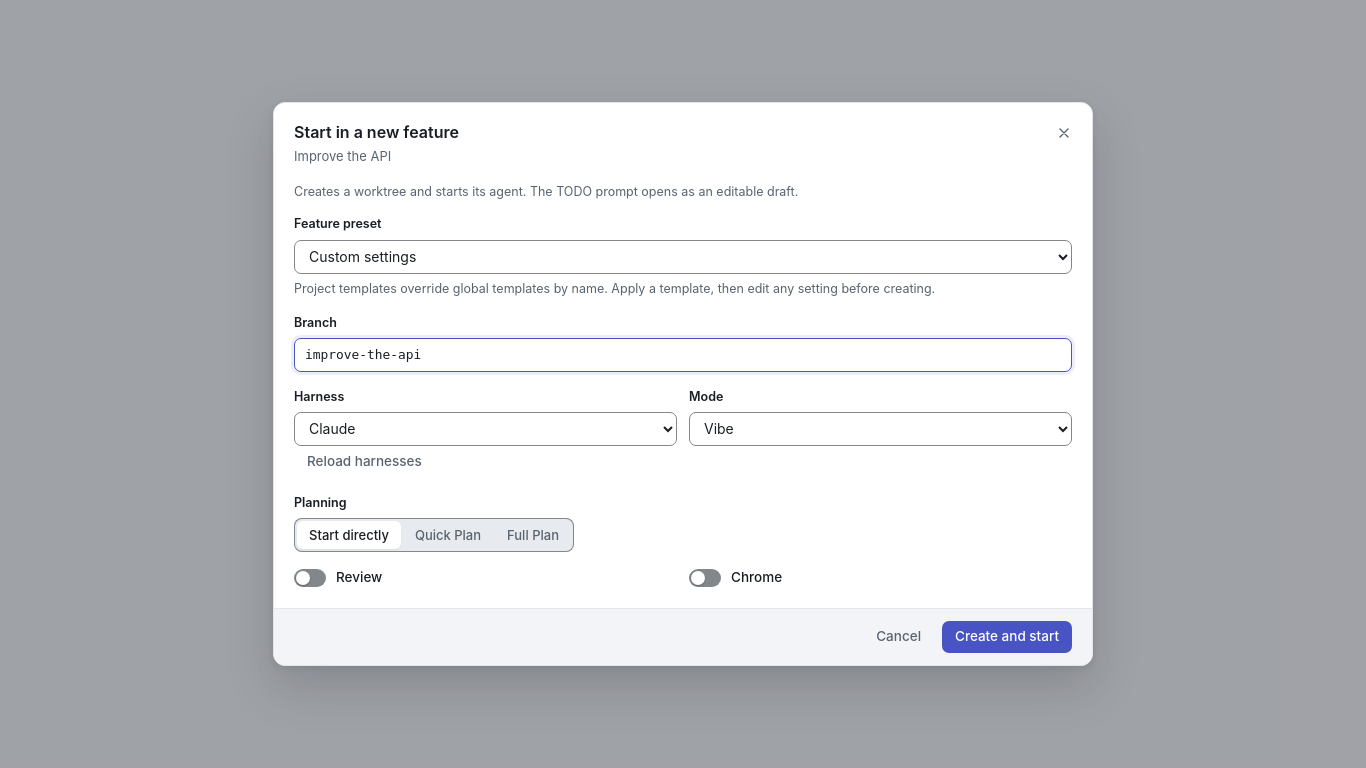
Scenario: swaps only prefixes applied by previous presets and keeps manual branch edits
The width and height of the screenshot is (1366, 768).
Expected: the button "Create and start" is enabled, [942, 621, 1072, 653]
Replace the text in the field labelled "Branch" with "nested/meaningful": (683, 355) [294, 338, 1072, 372]
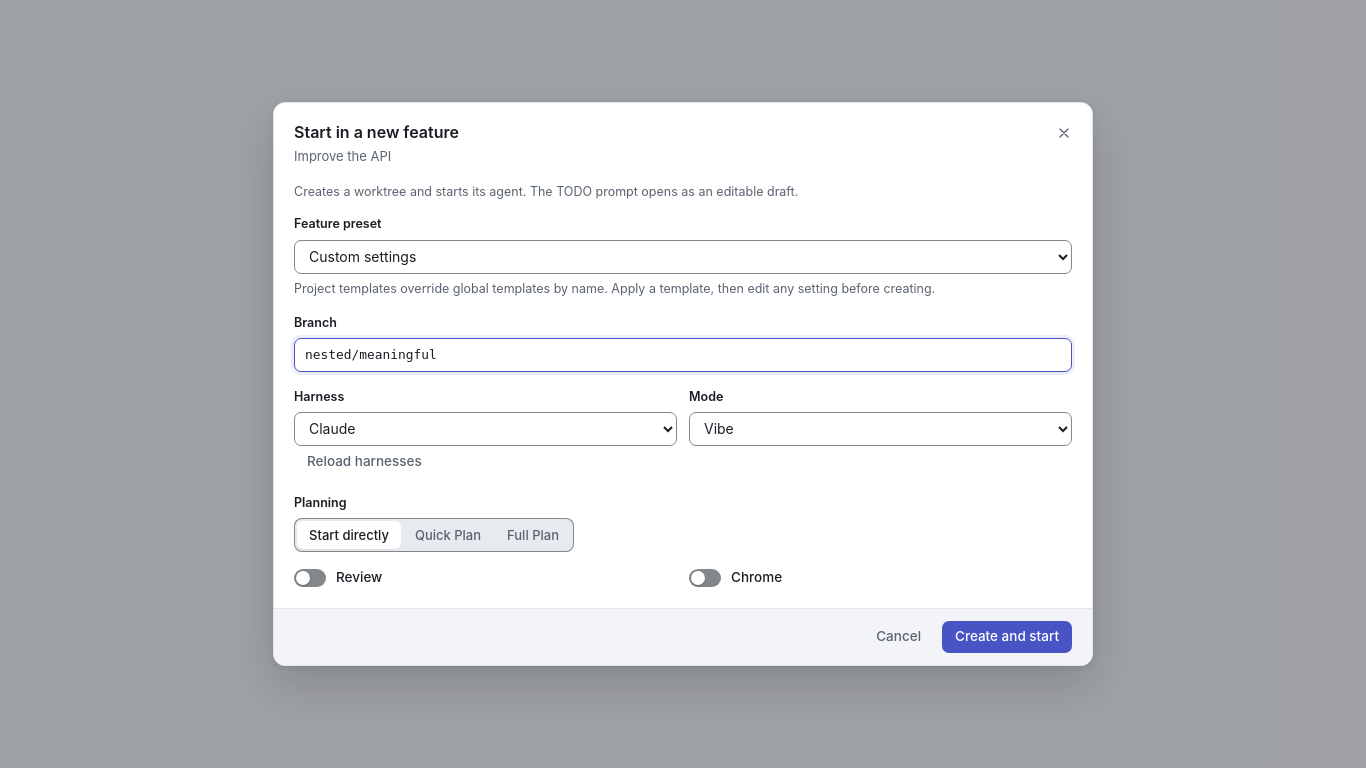
Select "Ship" in the dropdown labelled "Feature preset": (683, 257) [294, 240, 1072, 274]
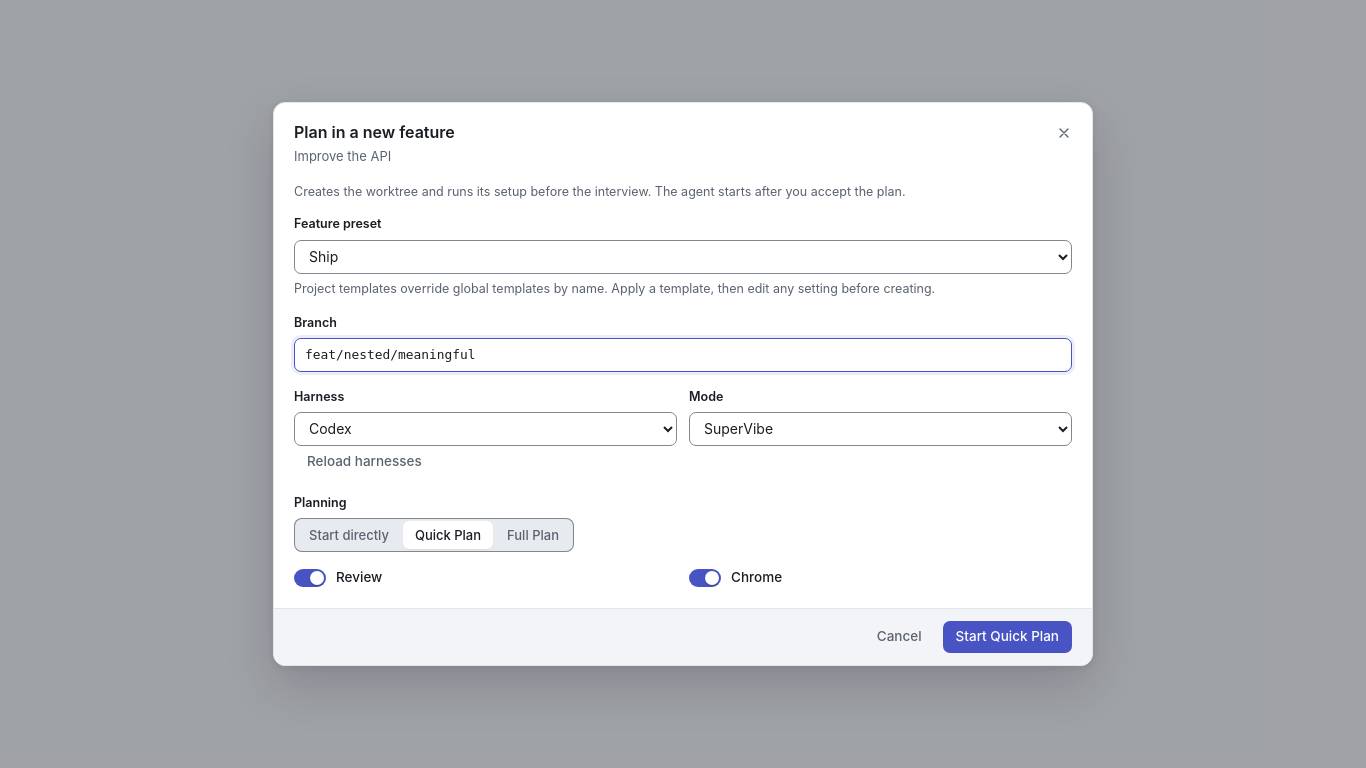
Now the field labelled "Branch" holds "feat/nested/meaningful", box [294, 338, 1072, 372]
Select "Fix" in the dropdown labelled "Feature preset": (683, 257) [294, 240, 1072, 274]
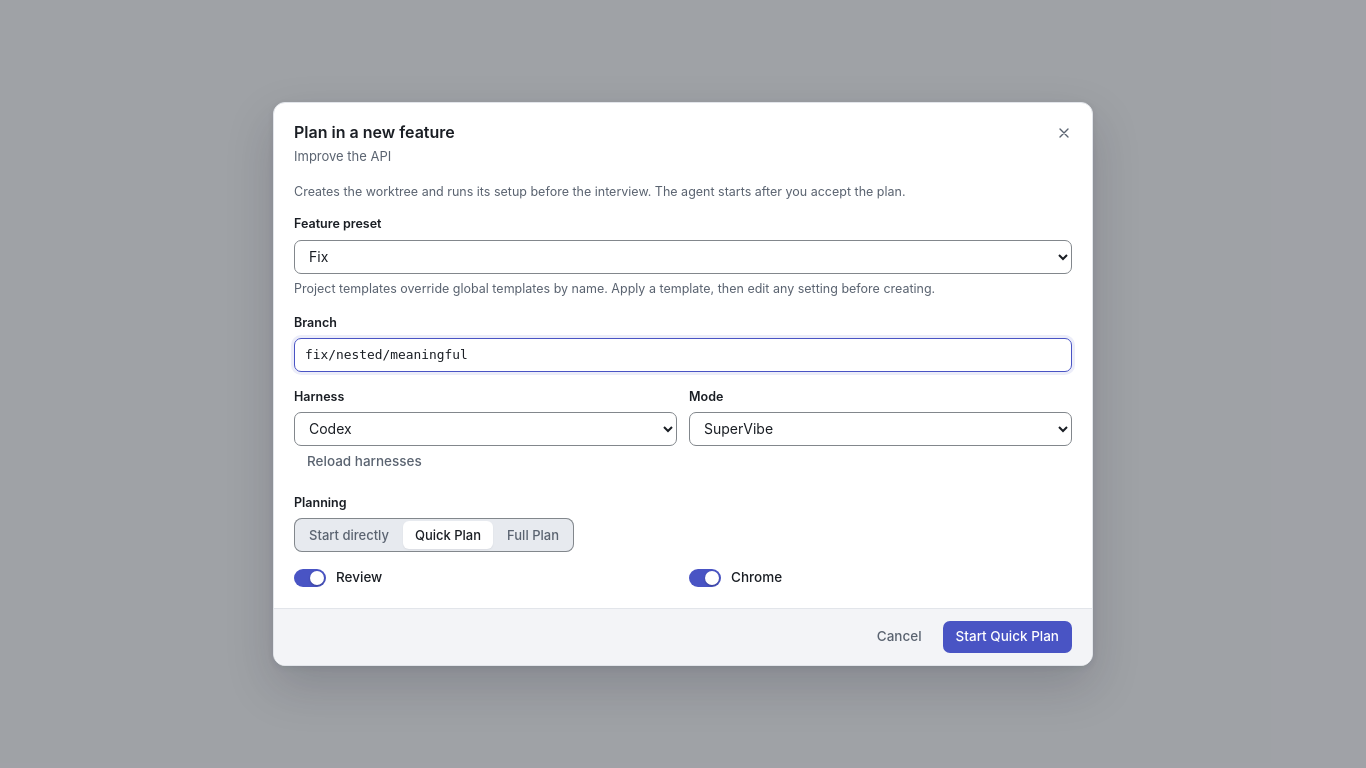
Now the field labelled "Branch" holds "fix/nested/meaningful", box [294, 338, 1072, 372]
Select "Plain" in the dropdown labelled "Feature preset": (683, 257) [294, 240, 1072, 274]
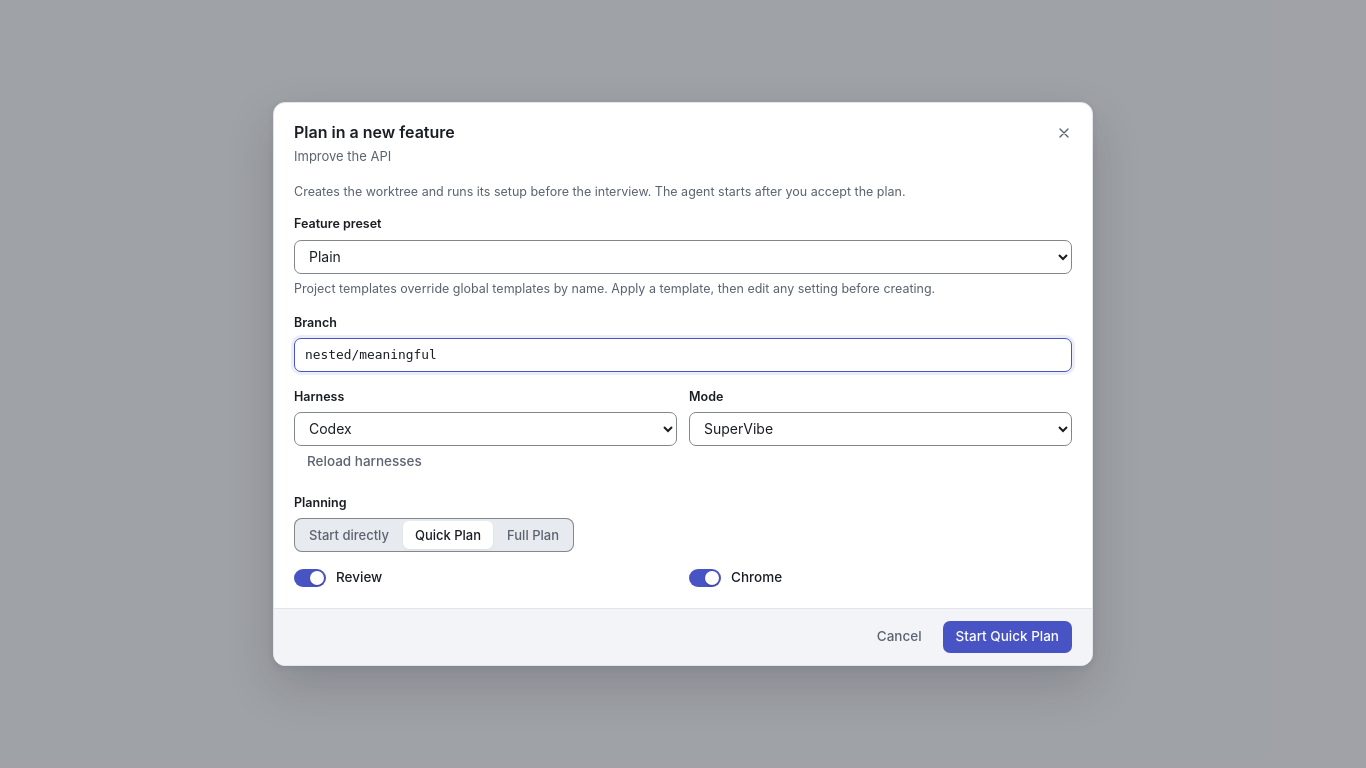
Replace the text in the field labelled "Branch" with "custom/edited": (683, 355) [294, 338, 1072, 372]
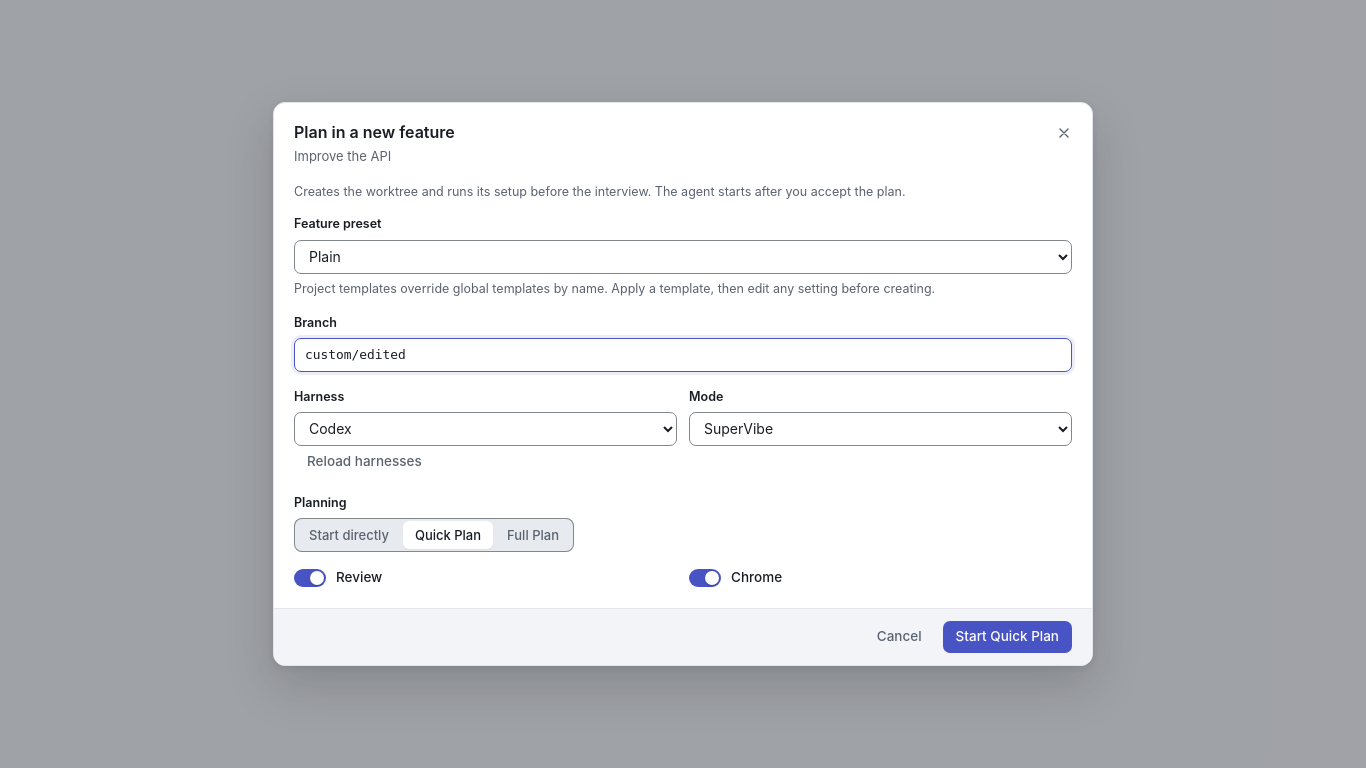
Select "Ship" in the dropdown labelled "Feature preset": (683, 257) [294, 240, 1072, 274]
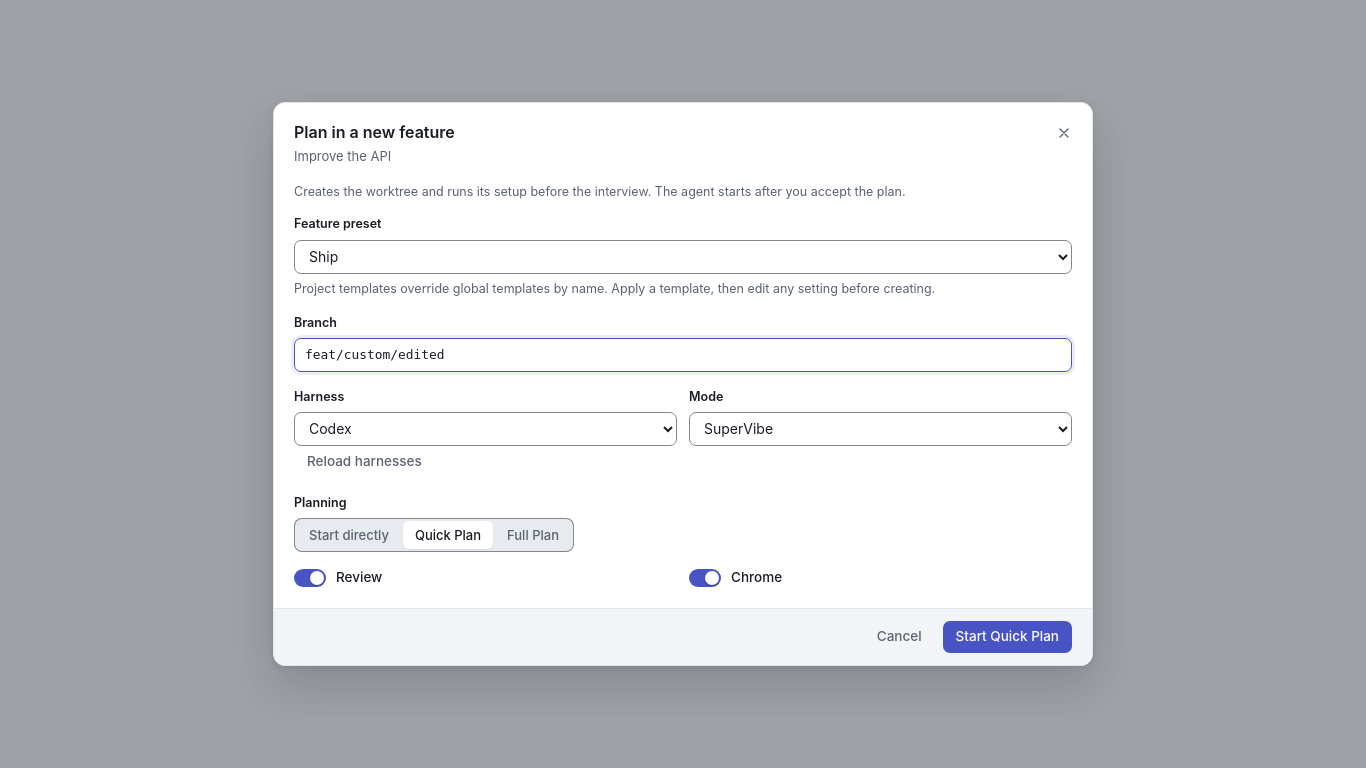
Now the field labelled "Branch" holds "feat/custom/edited", box [294, 338, 1072, 372]
